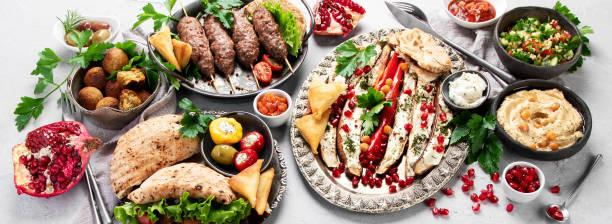Braised Crucian Carp: (294, 23, 472, 216), (109, 106, 284, 223), (145, 0, 307, 99), (492, 78, 591, 161), (493, 4, 580, 79)
